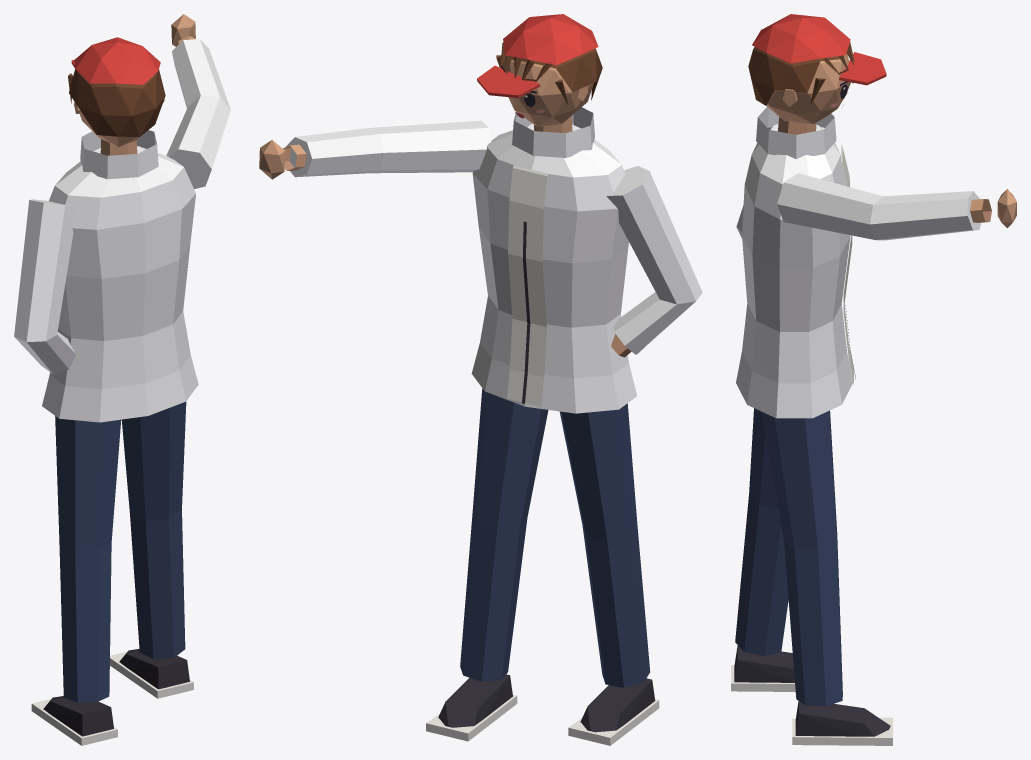
Rendered from spectator_i.glb.
3 views of the same model, side by side, from view 1: azimuth 30°, elevation 25°; view 2: azimuth 150°, elevation 25°; view 3: azimuth 270°, elevation 25° (orthographic). The views are drawn at different scales.
Parts seen in each view (by area): view 1: spectator_i; view 2: spectator_i; view 3: spectator_i.
Boxes of the visible parts, bbox=[...] form: spectator_i: bbox=[14, 14, 230, 745]; spectator_i: bbox=[259, 14, 702, 745]; spectator_i: bbox=[731, 14, 1016, 745].
Size of the model in its own units: 0.8186 by 1.74 by 0.6533.
